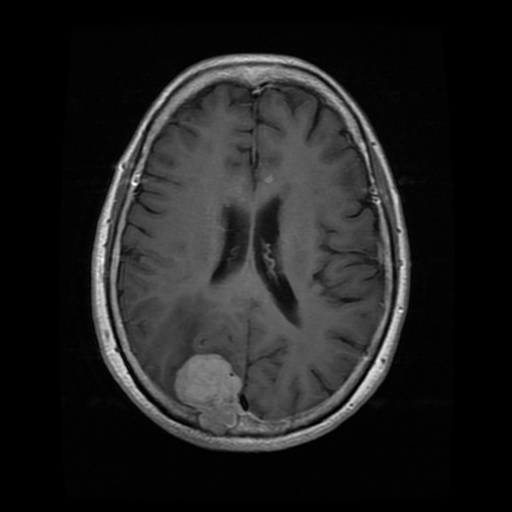meningioma: (177, 352, 241, 433)
